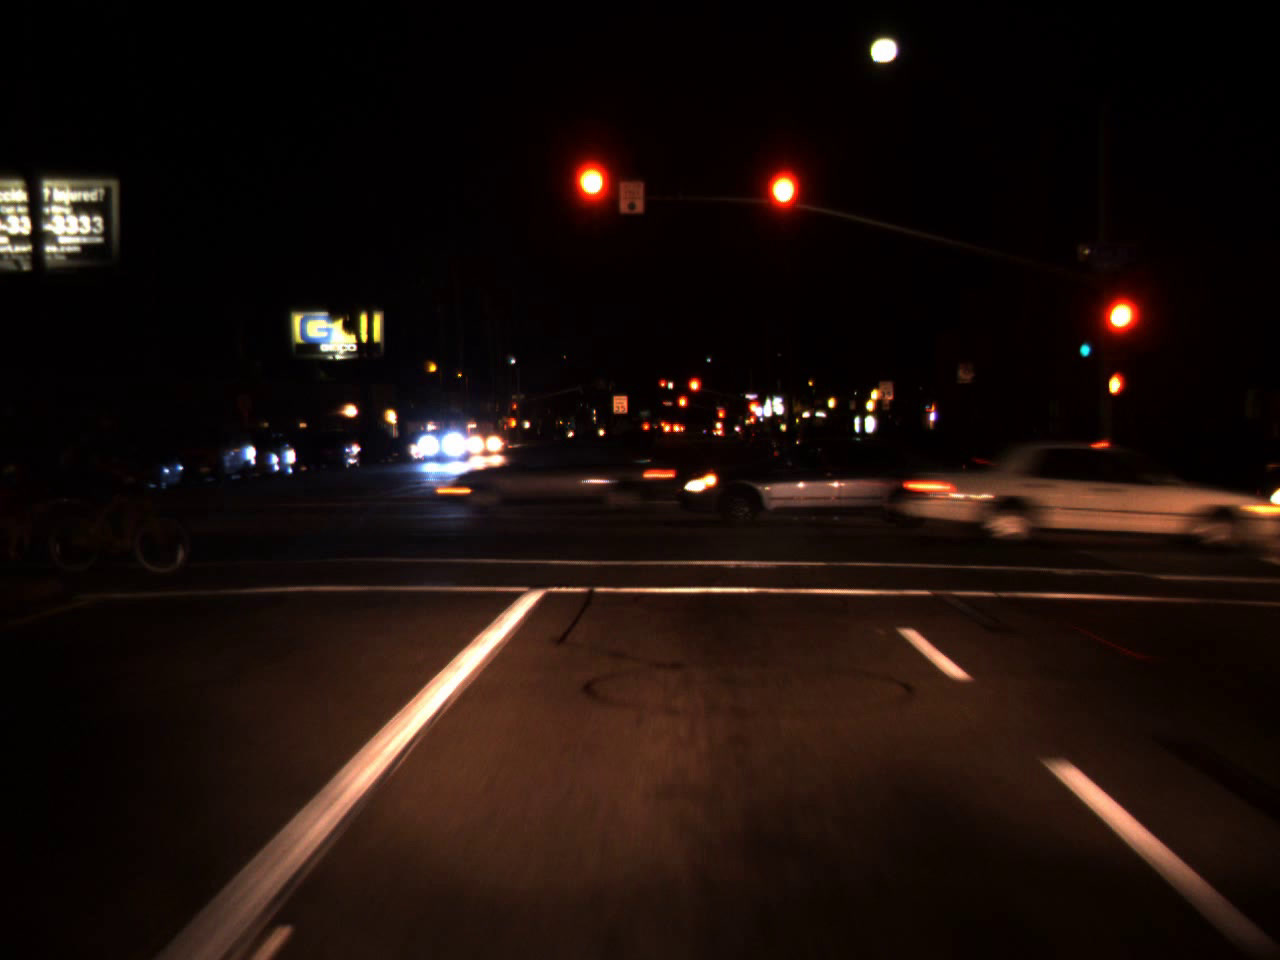stop: (765, 171, 801, 246), (572, 165, 611, 229), (1105, 302, 1133, 353), (686, 376, 701, 405), (677, 393, 689, 419), (656, 376, 668, 400), (746, 400, 759, 416), (509, 400, 518, 418), (717, 408, 724, 429)
